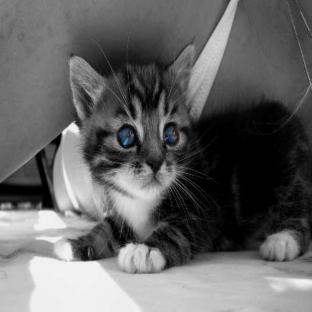Animal: (55, 45, 312, 272)
